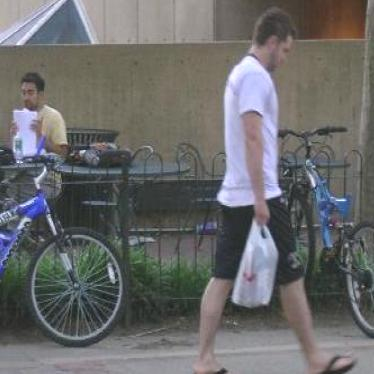ped: (193, 8, 359, 374)
